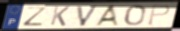A: (93, 4, 121, 28)
K: (49, 5, 72, 27)
O: (123, 4, 147, 26)
P: (146, 4, 172, 26)
V: (76, 5, 101, 28)
Z: (23, 6, 50, 27)
